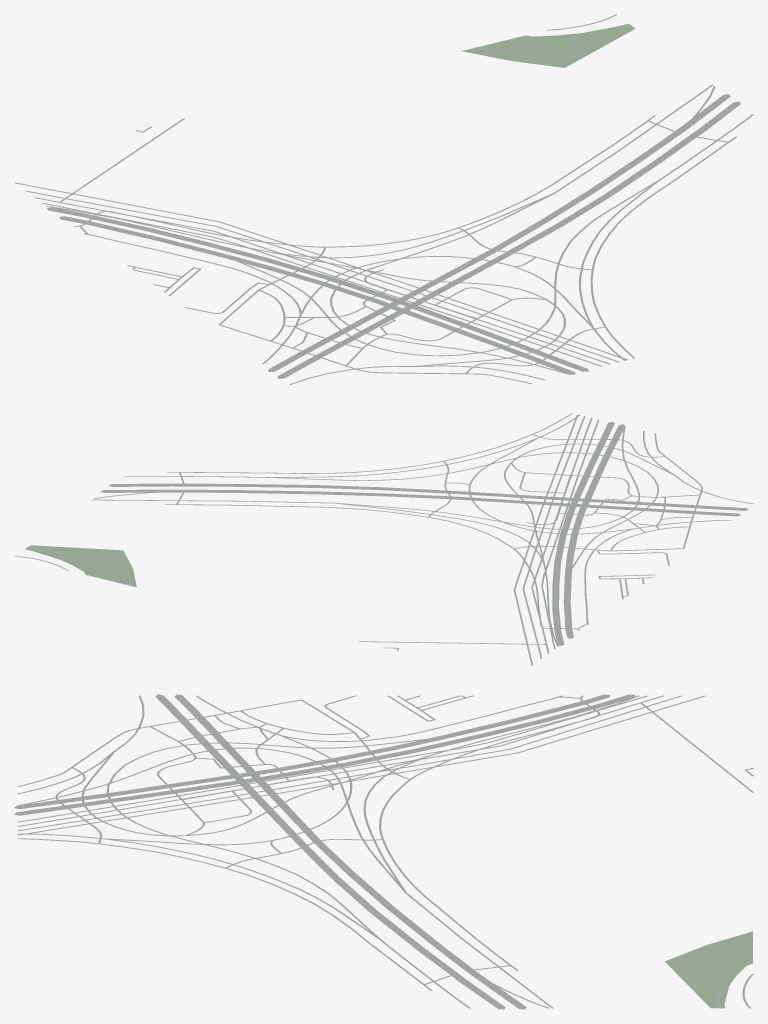
File: -22_7-known-coarse.glb
The picture shows the model from 3 angles, top to bottom: view 1: azimuth 30°, elevation 25°; view 2: azimuth 150°, elevation 25°; view 3: azimuth 270°, elevation 25°; orthographic projection. The views are drawn at different scales.
Bounding box in the file's own units: 1011 × 0.1 × 1002.
